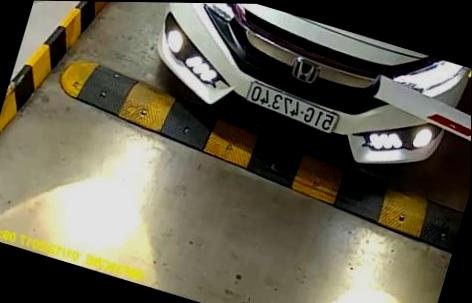License_Plate: (238, 81, 346, 143)
